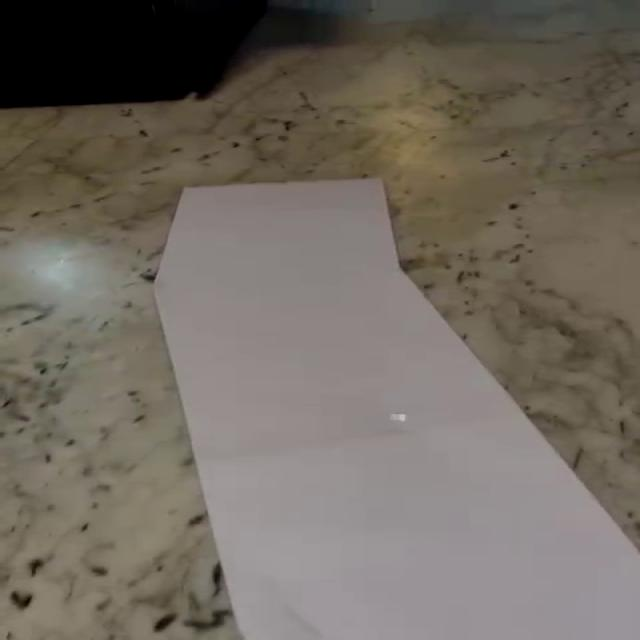road: (155, 180, 637, 640)
